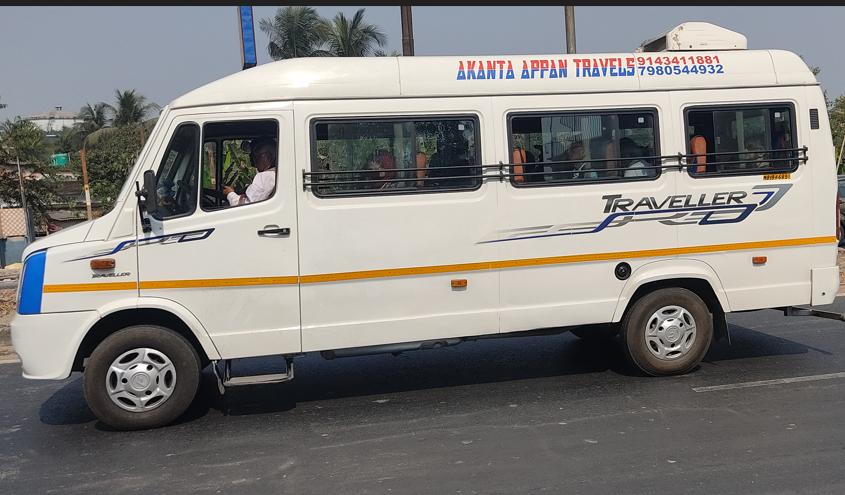Auto: (16, 43, 841, 431)
